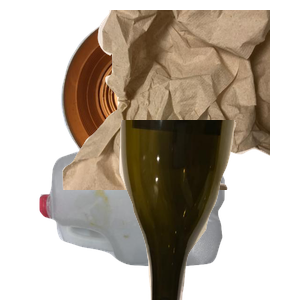glass: (117, 120, 300, 300)
metal: (58, 10, 289, 186)
plastic: (37, 147, 254, 300)
trash: (60, 10, 300, 190)
